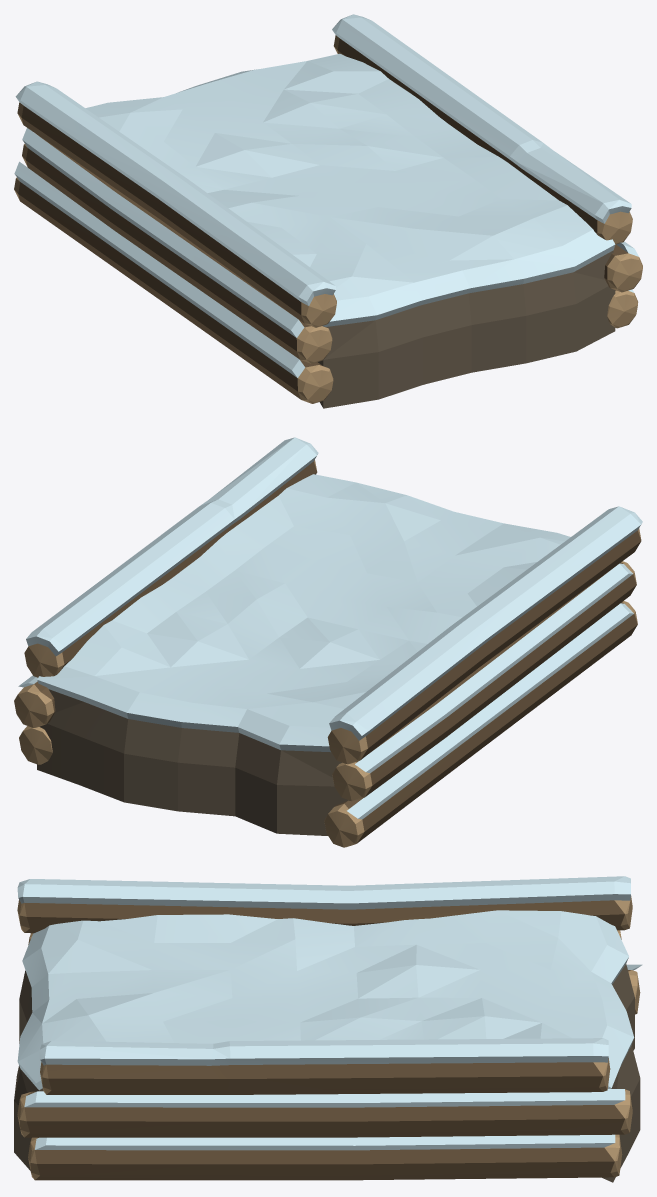
File: Puente_Zanja.glb
3 renders of one model, top to bottom at view 1: azimuth 30°, elevation 25°; view 2: azimuth 150°, elevation 25°; view 3: azimuth 270°, elevation 25°, orthographic. The views are drawn at different scales.
Parts seen in each view (by area): view 1: SM_Env_Trench_Bridge_01_Snow; view 2: SM_Env_Trench_Bridge_01_Snow; view 3: SM_Env_Trench_Bridge_01_Snow.
Part boxes in pixels (<box>): SM_Env_Trench_Bridge_01_Snow: <box>14,14,642,408</box>; SM_Env_Trench_Bridge_01_Snow: <box>14,437,642,847</box>; SM_Env_Trench_Bridge_01_Snow: <box>14,876,642,1182</box>.
Bounding box in the file's own units: 3.13 × 1.12 × 4.5.
Materials: 1 (1 with a texture image).
